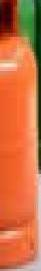cylinder: (0, 1, 41, 271)
